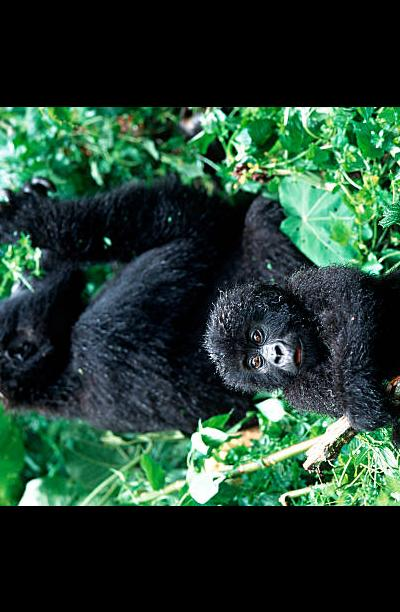goriile_montagne: (0, 172, 256, 447), (204, 228, 400, 437)
